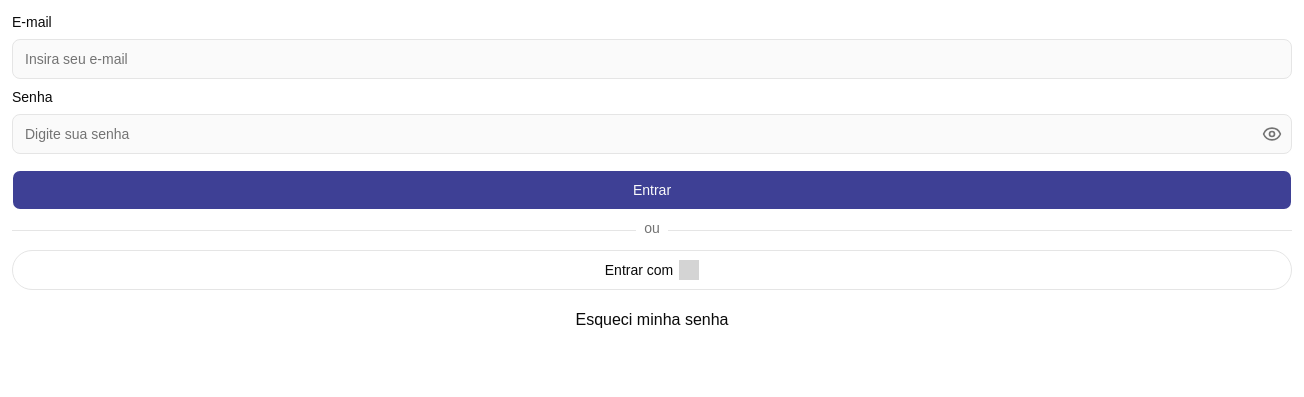
Test: SignInForm › shows validation messages for empty submit
Step 1. Click the button "Entrar" → [652, 190], box [12,170,1292,210]
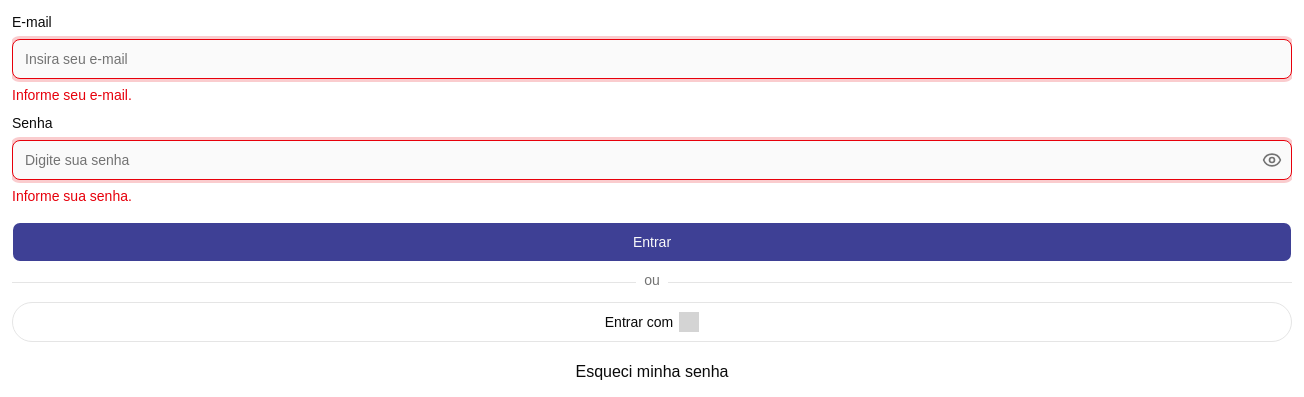
Expected: the text "Informe seu e-mail." is shown, [12,87,132,103]
Expected: the text "Informe sua senha." is shown, [12,188,132,204]
